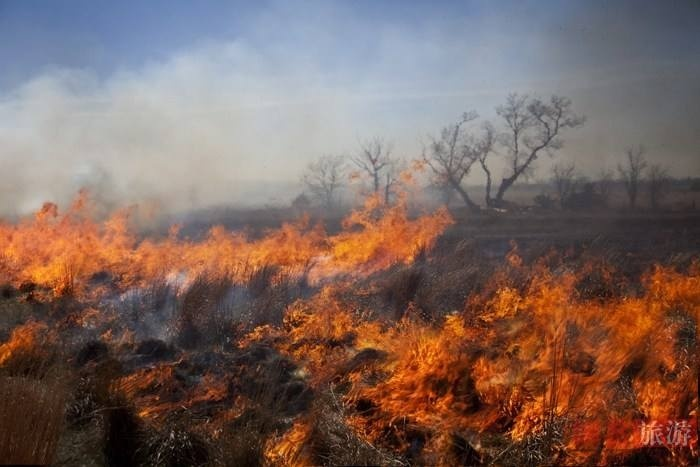fire: (267, 247, 697, 467), (1, 162, 448, 281), (118, 362, 239, 428), (3, 315, 56, 358)
